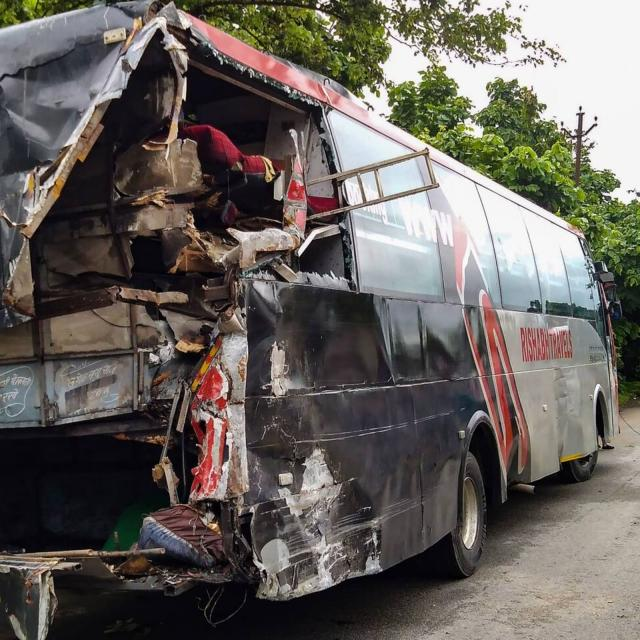BUS: (0, 20, 636, 539)
